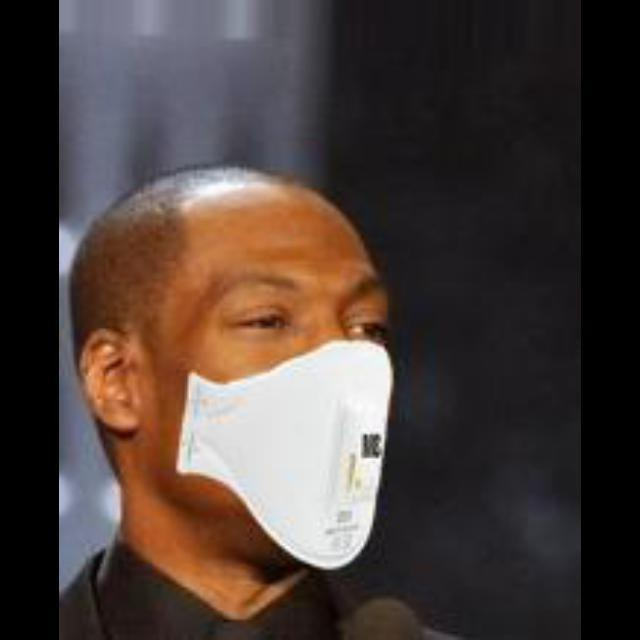suspicion: (96, 152, 418, 560)
